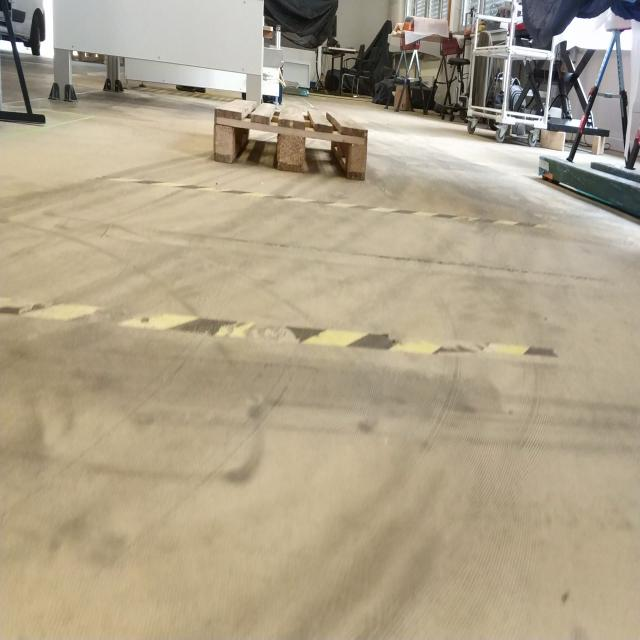block: (275, 118, 306, 176), (213, 107, 236, 167), (348, 124, 370, 184)
front: (213, 108, 369, 185)
